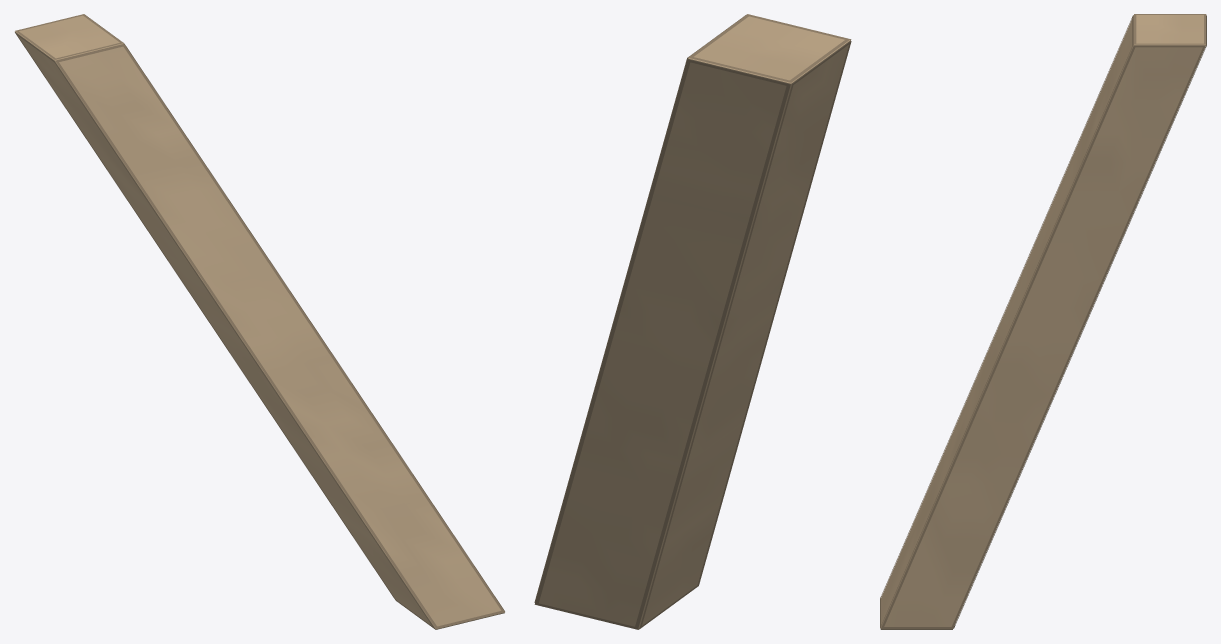
The model's file is brace-2.glb.
3 views of the same model, side by side, from view 1: azimuth 30°, elevation 25°; view 2: azimuth 150°, elevation 25°; view 3: azimuth 270°, elevation 25° (orthographic). The views are drawn at different scales.
Visible parts, largest first — view 1: brace-2; view 2: brace-2; view 3: brace-2.
Part boxes in pixels (x1,y1,x2,y2): brace-2: (15,14,504,629); brace-2: (534,14,851,629); brace-2: (880,14,1206,629).
Bounding box in the file's own units: 0.1987 × 0.3208 × 0.1987.
